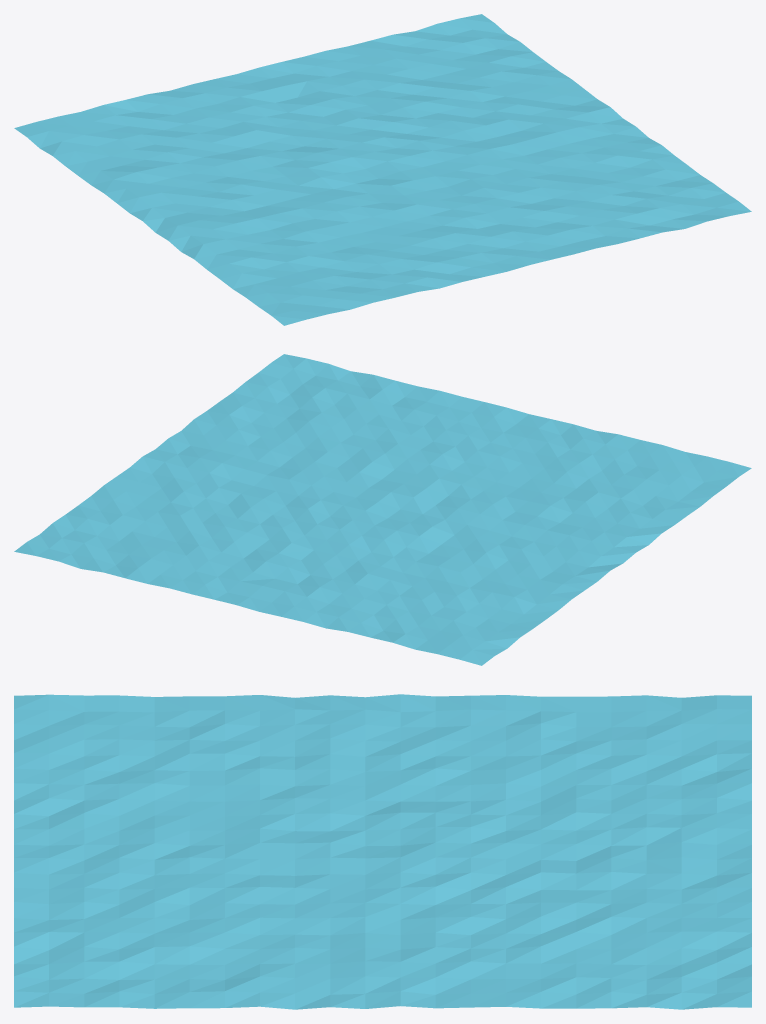
File: terrain_sea_01.fbx
The picture shows the model from 3 angles, top to bottom: view 1: azimuth 30°, elevation 25°; view 2: azimuth 150°, elevation 25°; view 3: azimuth 270°, elevation 25°; orthographic projection. The views are drawn at different scales.
Parts seen in each view (by area): view 1: terrain_sea_01; view 2: terrain_sea_01; view 3: terrain_sea_01.
Boxes of the visible parts, x1=… form: terrain_sea_01: x1=14, y1=14, x2=751, y2=325; terrain_sea_01: x1=14, y1=354, x2=751, y2=665; terrain_sea_01: x1=14, y1=694, x2=751, y2=1009.
Size of the model in its own units: 2000 by 13.76 by 2000.
